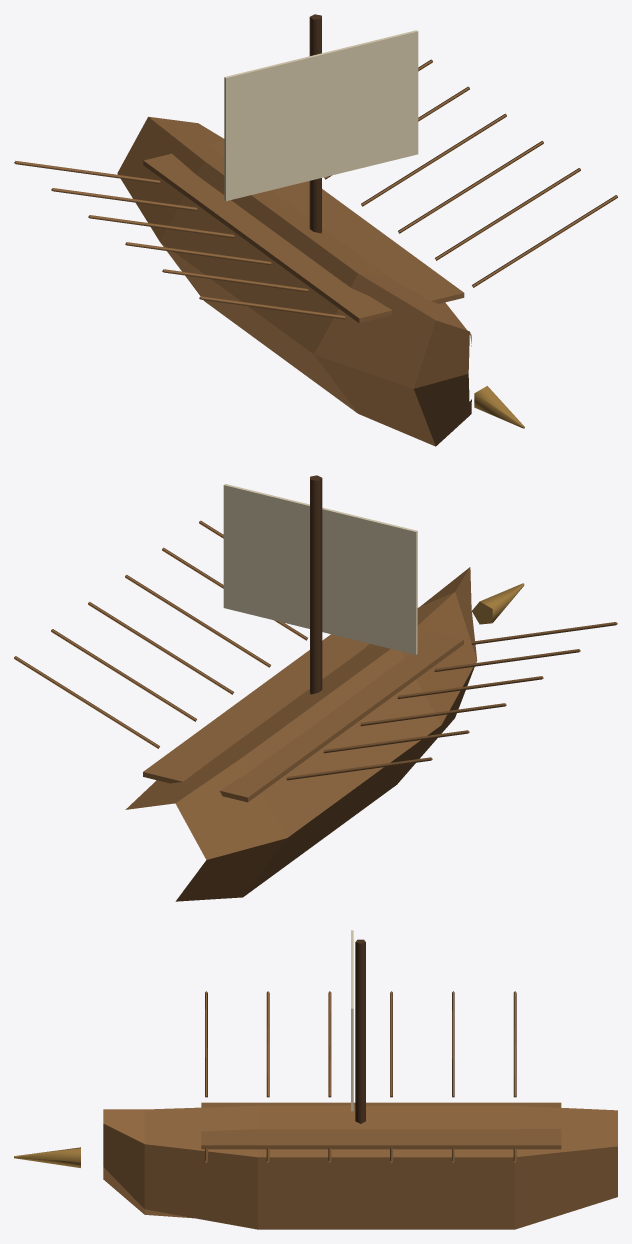
File: veh_naval_warship_a01_lod1.glb
3 views of the same model, one above another, from view 1: azimuth 30°, elevation 25°; view 2: azimuth 150°, elevation 25°; view 3: azimuth 270°, elevation 25° (orthographic). The views are drawn at different scales.
Visible parts, largest first — view 1: body, sail_0; view 2: body, sail_0; view 3: body, sail_0.
Boxes of the visible parts, x1,y1,x2,y2 form: body: [14, 14, 617, 446]; sail_0: [224, 30, 418, 201]; body: [14, 475, 617, 901]; sail_0: [223, 484, 417, 654]; body: [14, 939, 617, 1229]; sail_0: [351, 930, 353, 1111].
Size of the model in its own units: 7.2 by 5.71 by 10.8.
